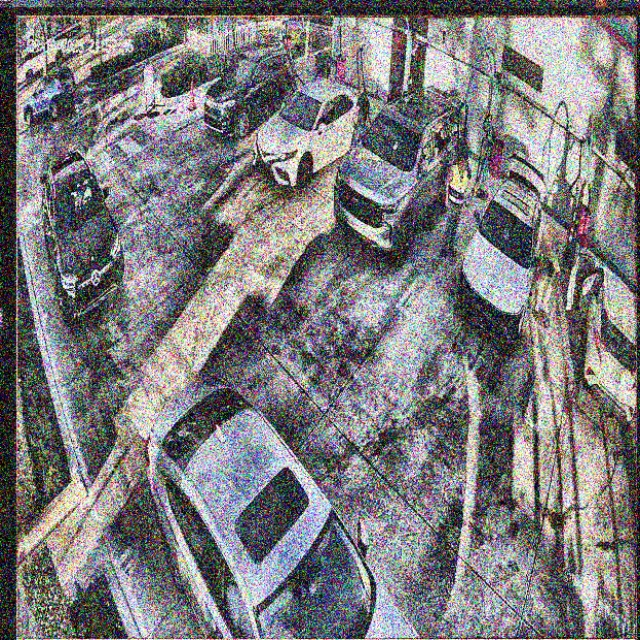Car: (146, 367, 422, 640), (335, 94, 465, 266), (462, 162, 545, 346), (252, 79, 365, 184)
